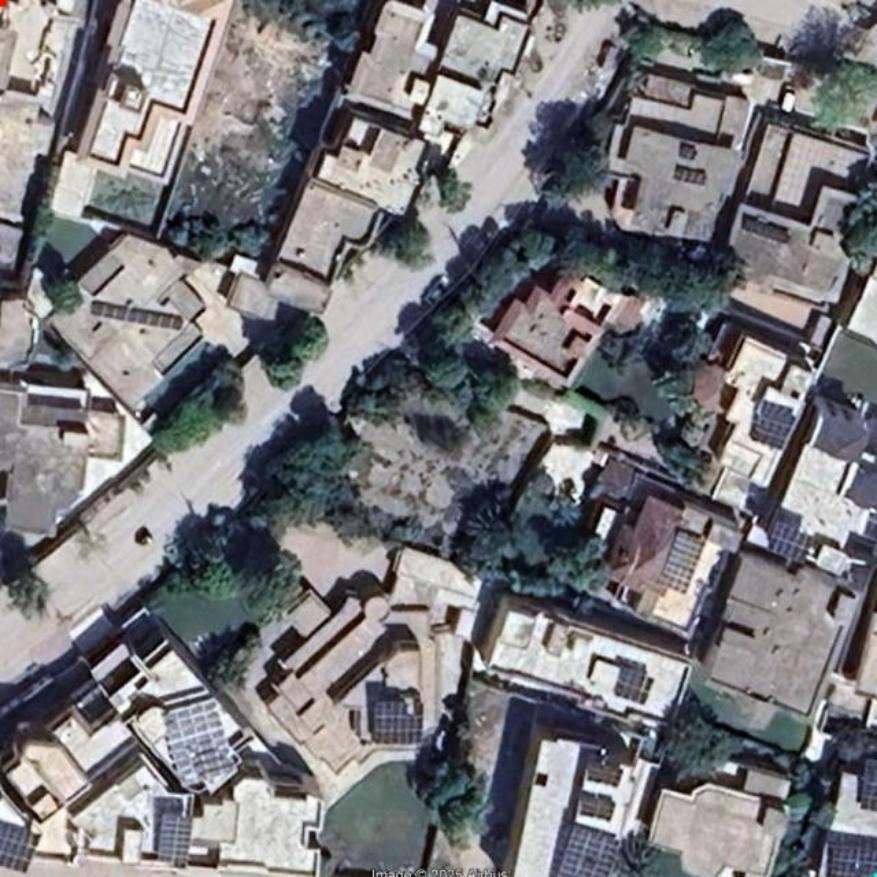Solarpanel: (165, 702, 233, 786), (656, 530, 708, 598), (558, 827, 626, 876), (86, 302, 185, 332), (373, 699, 425, 745), (750, 400, 795, 450), (827, 831, 876, 876), (764, 518, 813, 563), (156, 812, 194, 865), (0, 819, 37, 869), (616, 667, 654, 701), (578, 794, 618, 819), (859, 760, 876, 812), (588, 762, 623, 785)
